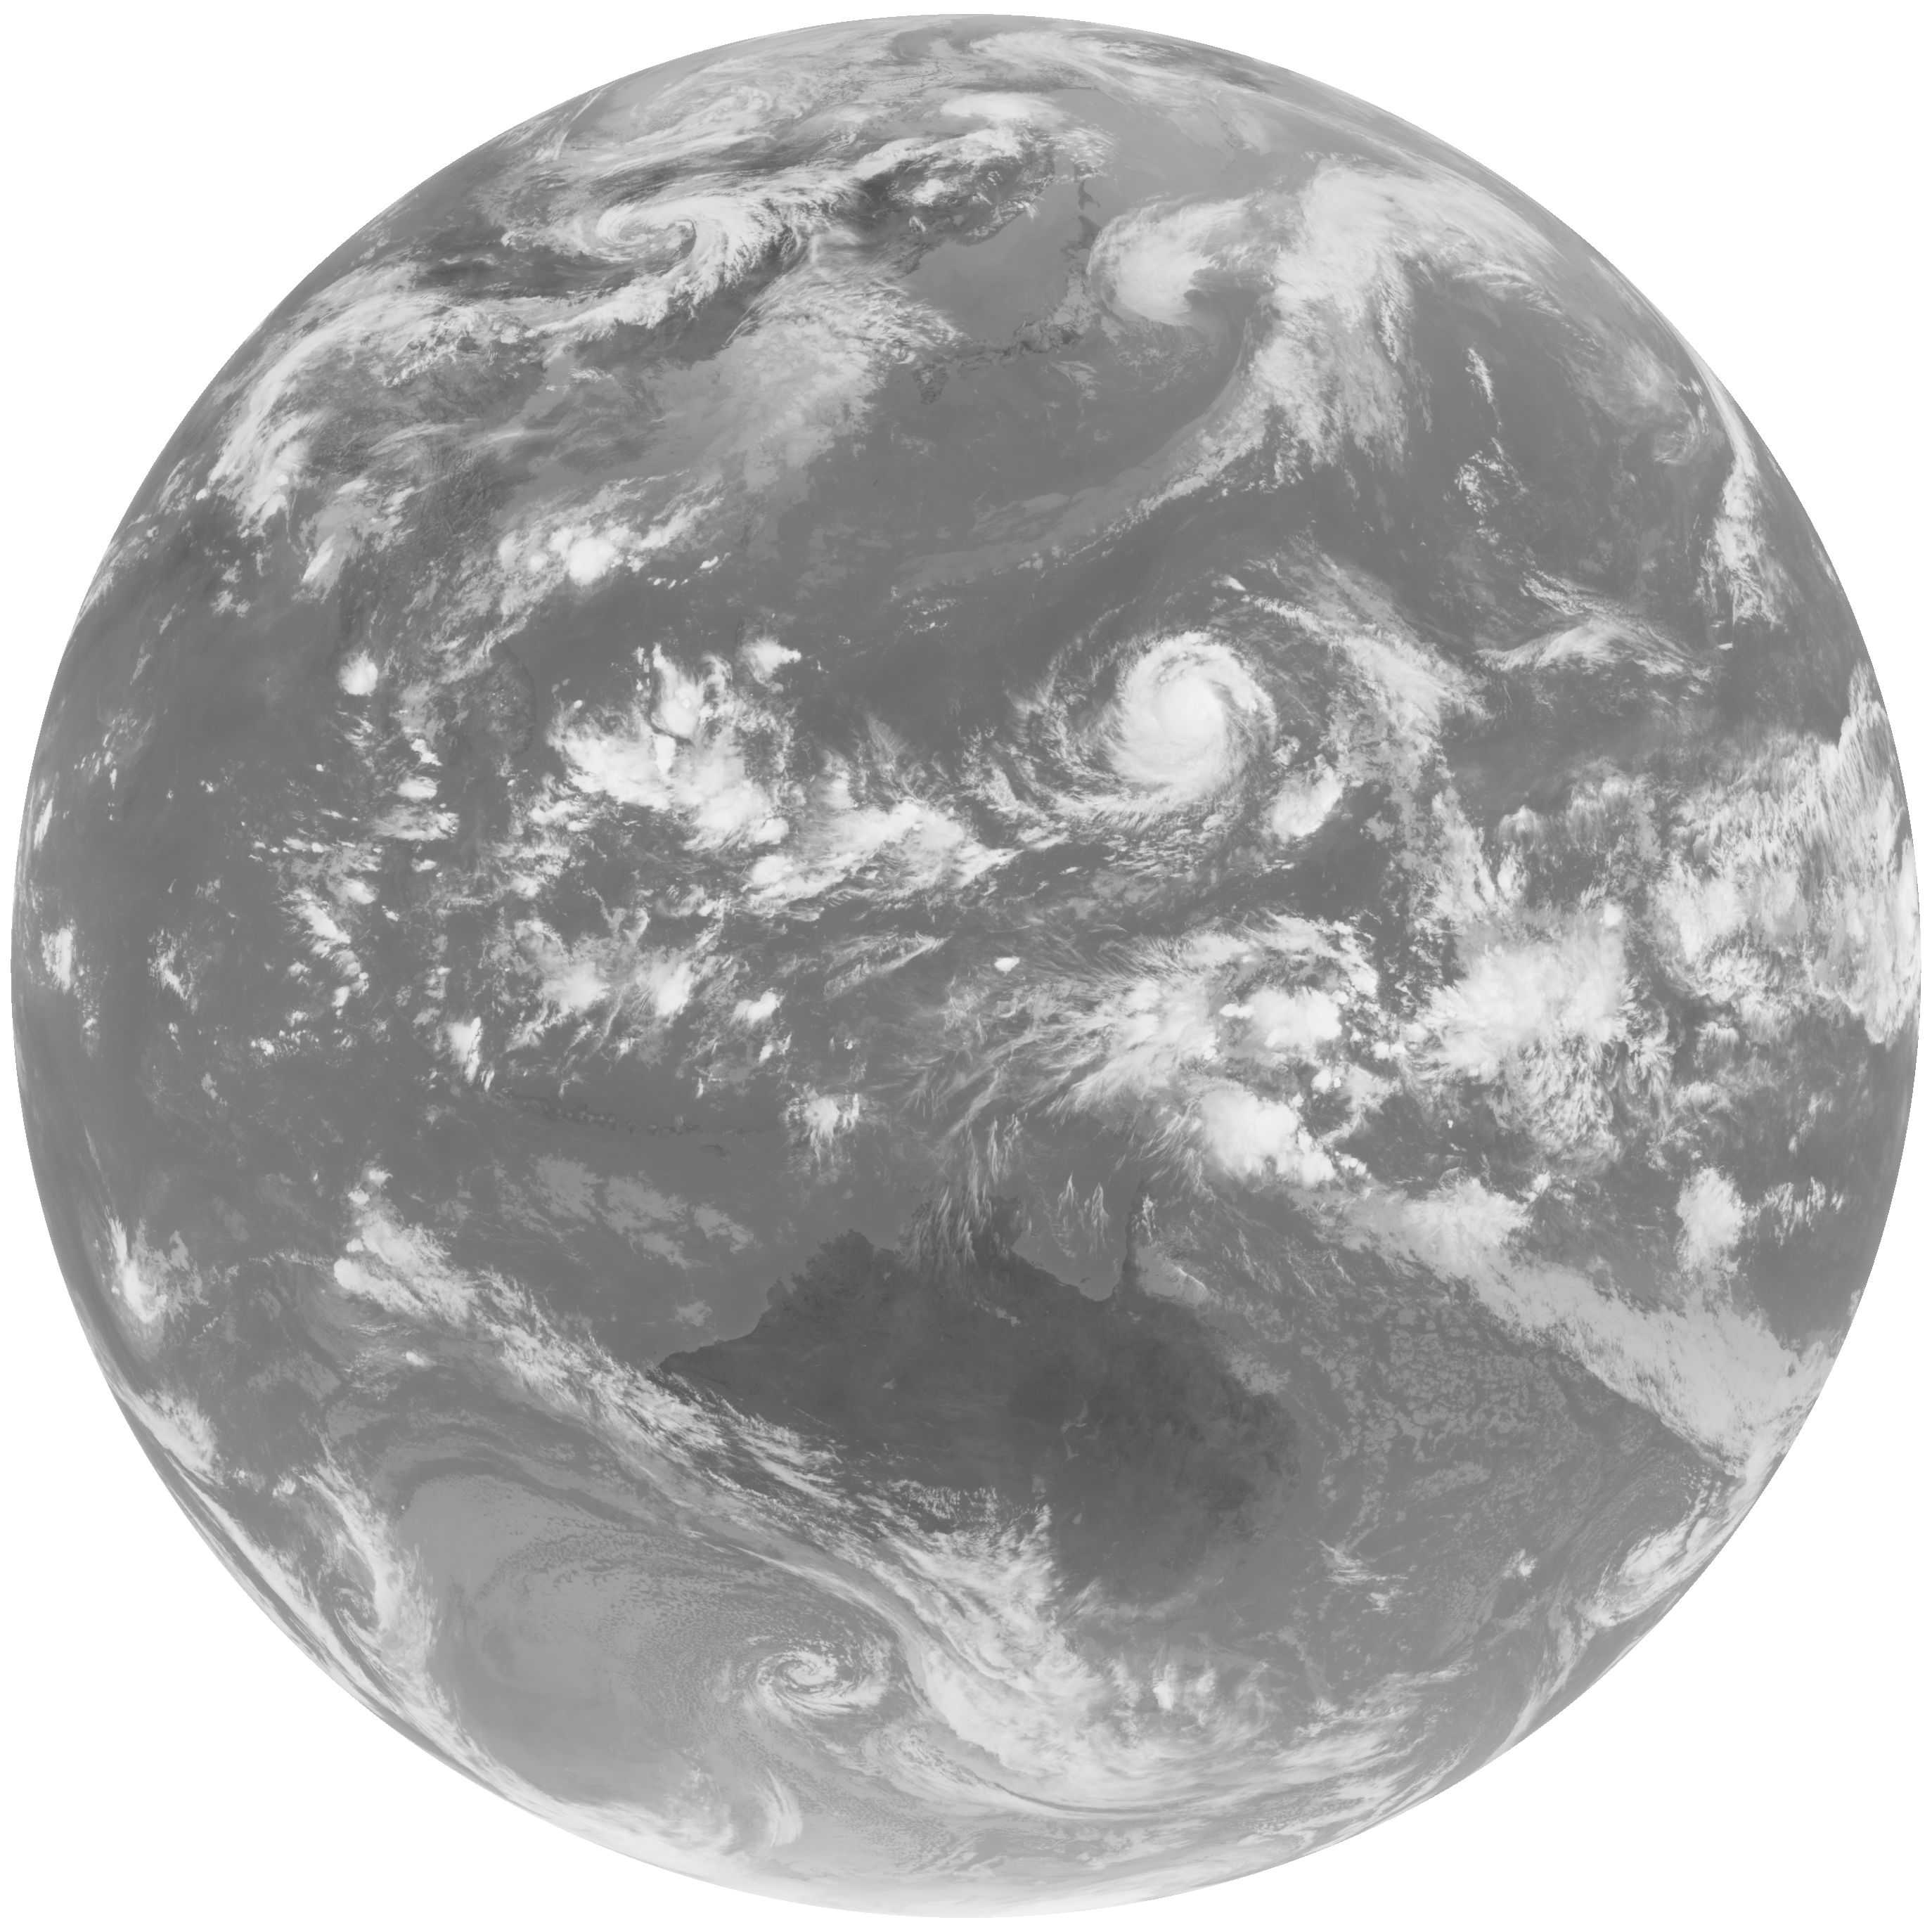typhoon: (966, 547, 1431, 913)
